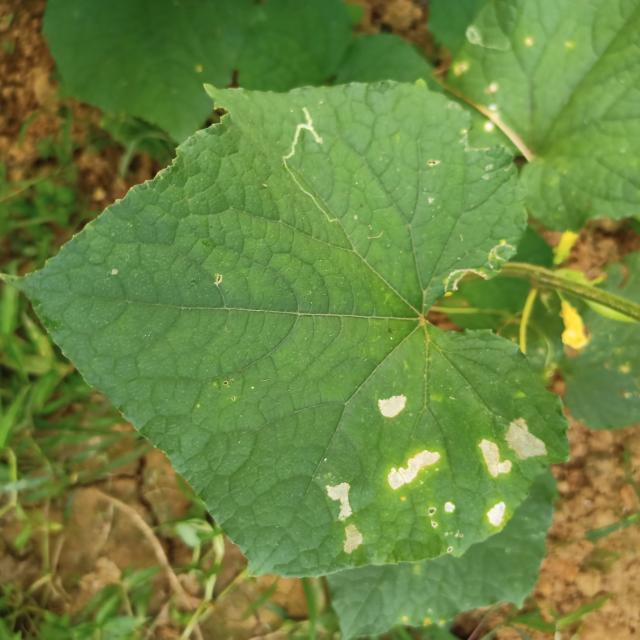disease_cucumber: (474, 415, 551, 534), (384, 443, 461, 528), (322, 477, 366, 558), (370, 387, 411, 429)
